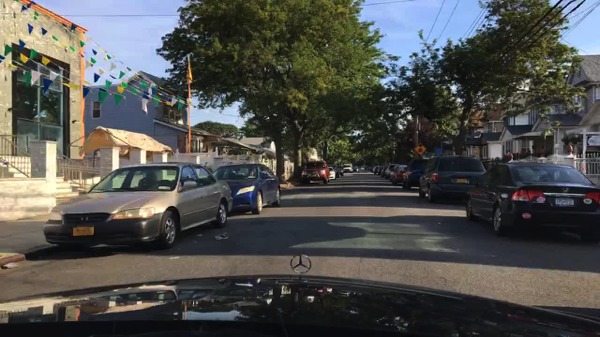car: (44, 162, 235, 250), (466, 166, 599, 237), (212, 164, 280, 216), (418, 156, 485, 203), (401, 160, 428, 190), (301, 162, 331, 185), (393, 165, 405, 185), (383, 165, 397, 176), (327, 167, 336, 180), (334, 165, 341, 178), (376, 166, 385, 175), (388, 169, 395, 180), (343, 165, 352, 173), (338, 165, 345, 175), (372, 167, 379, 173), (380, 170, 385, 177), (353, 167, 358, 173), (369, 166, 374, 171)
traffic sign: (414, 143, 426, 155)
